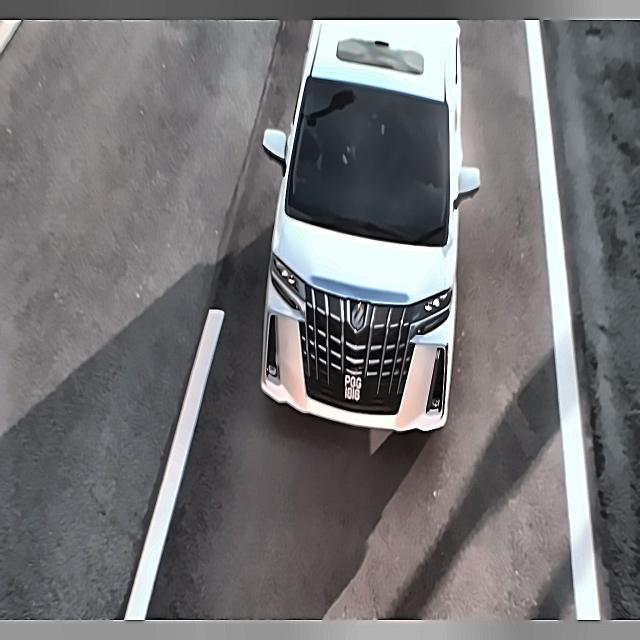car: (337, 367, 367, 407)
